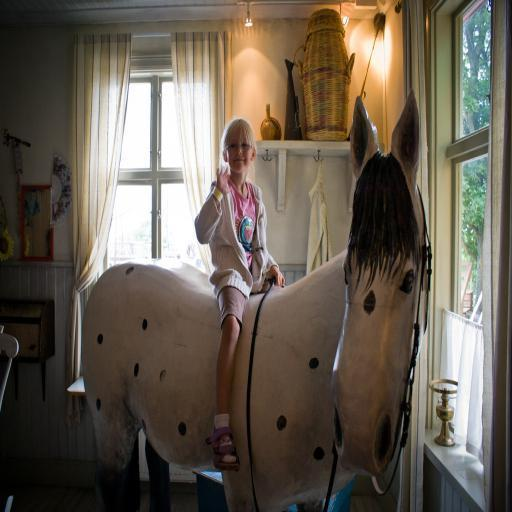horse: (82, 93, 430, 512)
